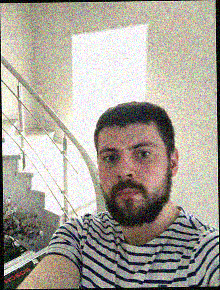without_mask: (98, 137, 167, 228)
